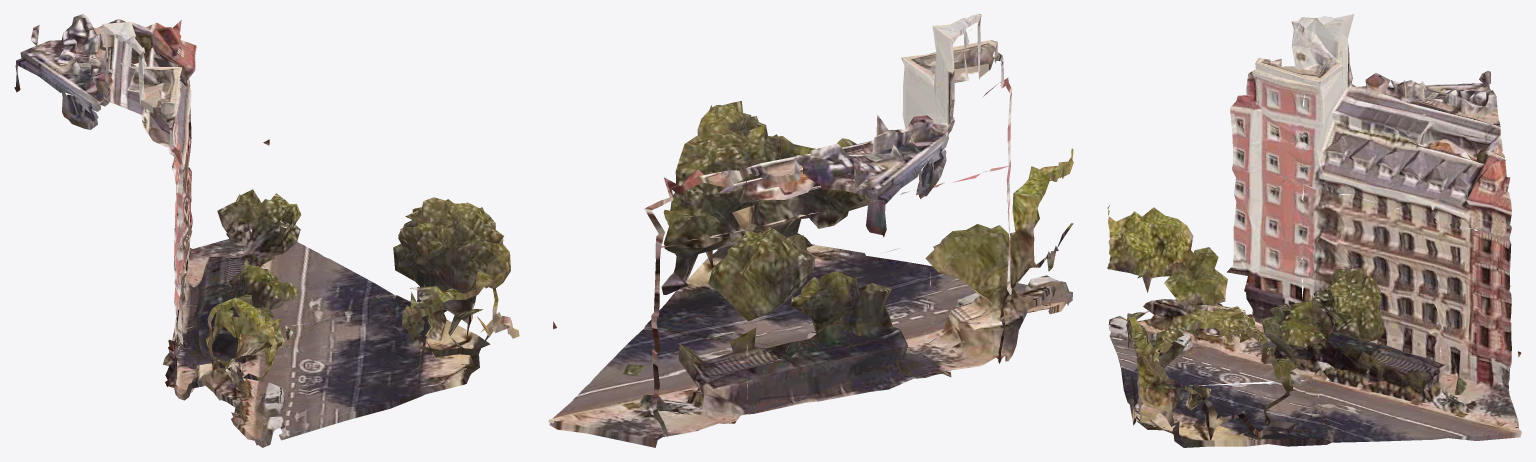
The picture shows the model from 3 angles, left to right: view 1: azimuth 30°, elevation 25°; view 2: azimuth 150°, elevation 25°; view 3: azimuth 270°, elevation 25°; orthographic projection. The views are drawn at different scales.
Parts seen in each view (by area): view 1: Mesh_0; view 2: Mesh_0; view 3: Mesh_0.
Boxes of the visible parts, left/top/right/bottom form: Mesh_0: left=14, top=14, right=519, bottom=447; Mesh_0: left=548, top=14, right=1073, bottom=447; Mesh_0: left=1107, top=14, right=1521, bottom=447.
Size of the model in its own units: 33.32 by 34.31 by 41.52.
Materials: 1 (1 with a texture image).
